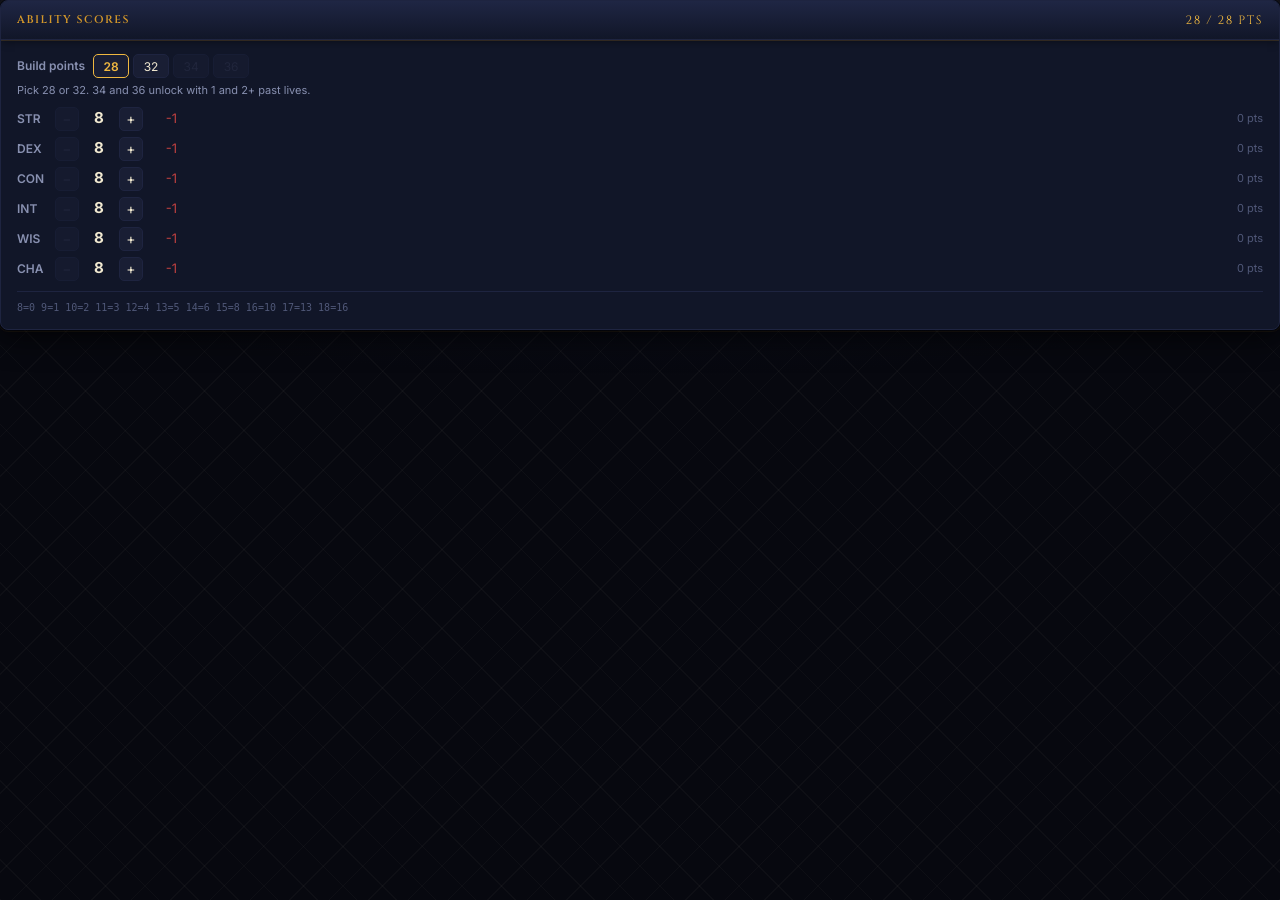
Test case: Ability Scores build point selector › shows all four tiers and lets a fresh build switch 28 to 32
What coordinates should you click on to do the following:
click the radio button labelled "32"
I would click on:
 (151, 66)
Its box is [133,54,169,78].
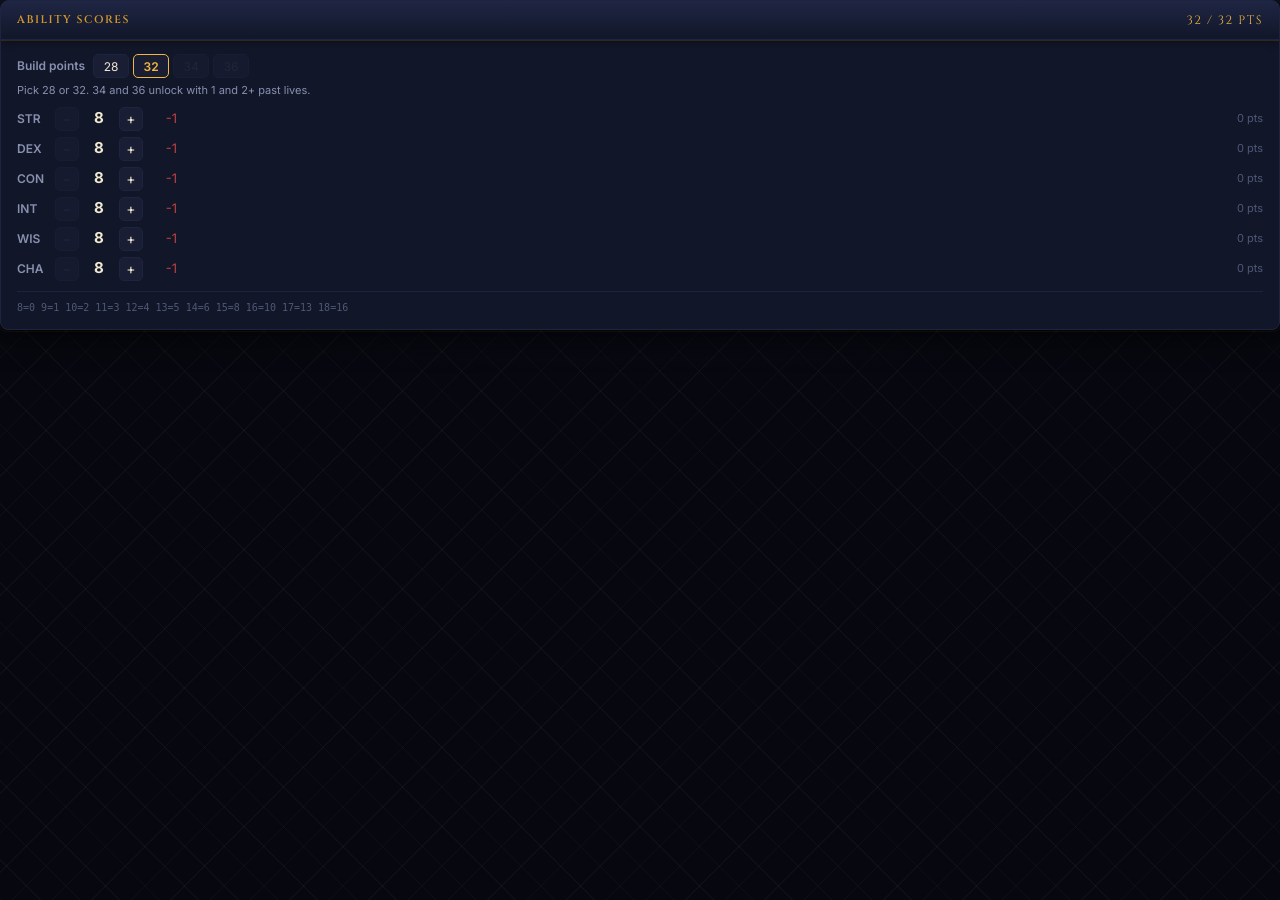
expect the text "32 / 32 pts" is shown: met, box [1187,11,1263,29]
What coordinates should you click on to do the following:
click the radio button labelled "28"
I would click on:
 (111, 66)
Its box is [93,54,129,78].
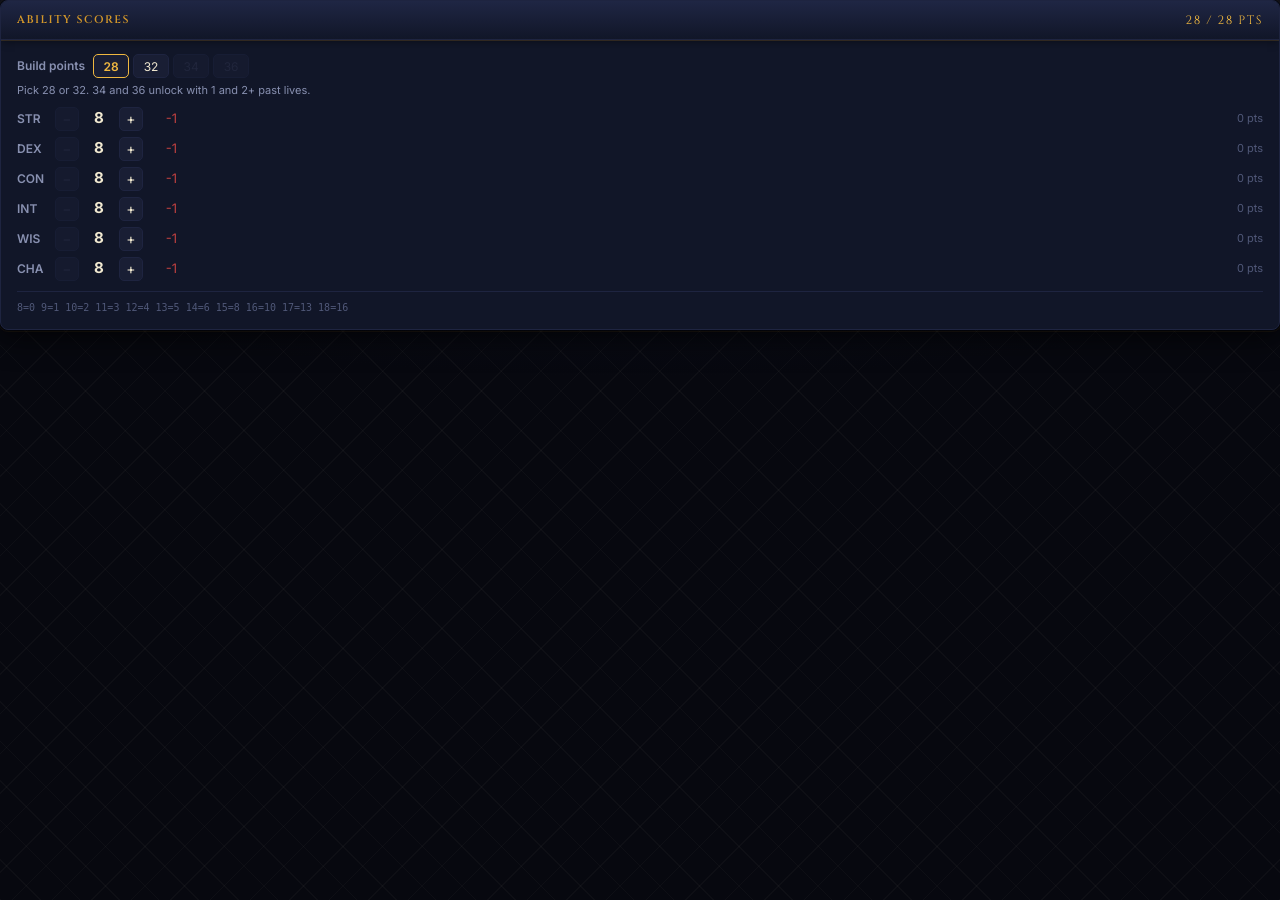
expect the text "28 / 28 pts" is shown: met, box [1186,11,1263,29]
